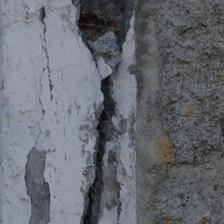Crack: (0, 30, 116, 91), (4, 52, 115, 83)
